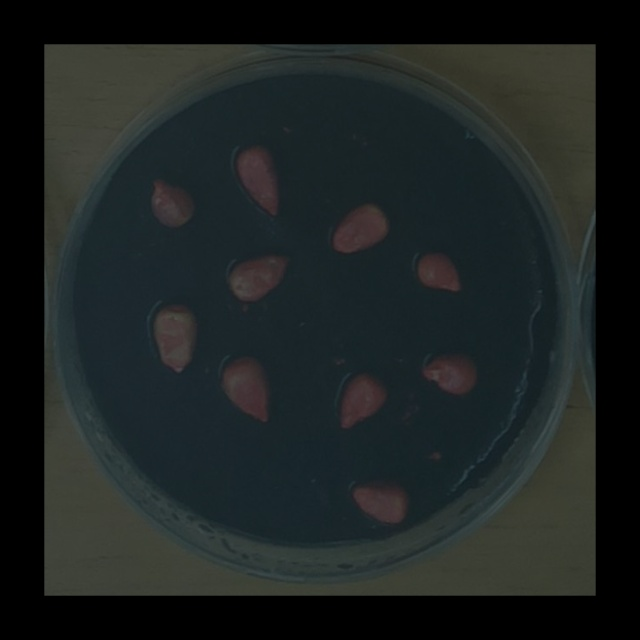Zea mays: (215, 346, 277, 428), (227, 138, 286, 222), (146, 295, 204, 378), (221, 244, 297, 307), (326, 194, 395, 259), (332, 365, 394, 436), (346, 473, 415, 528), (417, 346, 483, 398), (145, 172, 201, 233), (409, 244, 467, 297)
